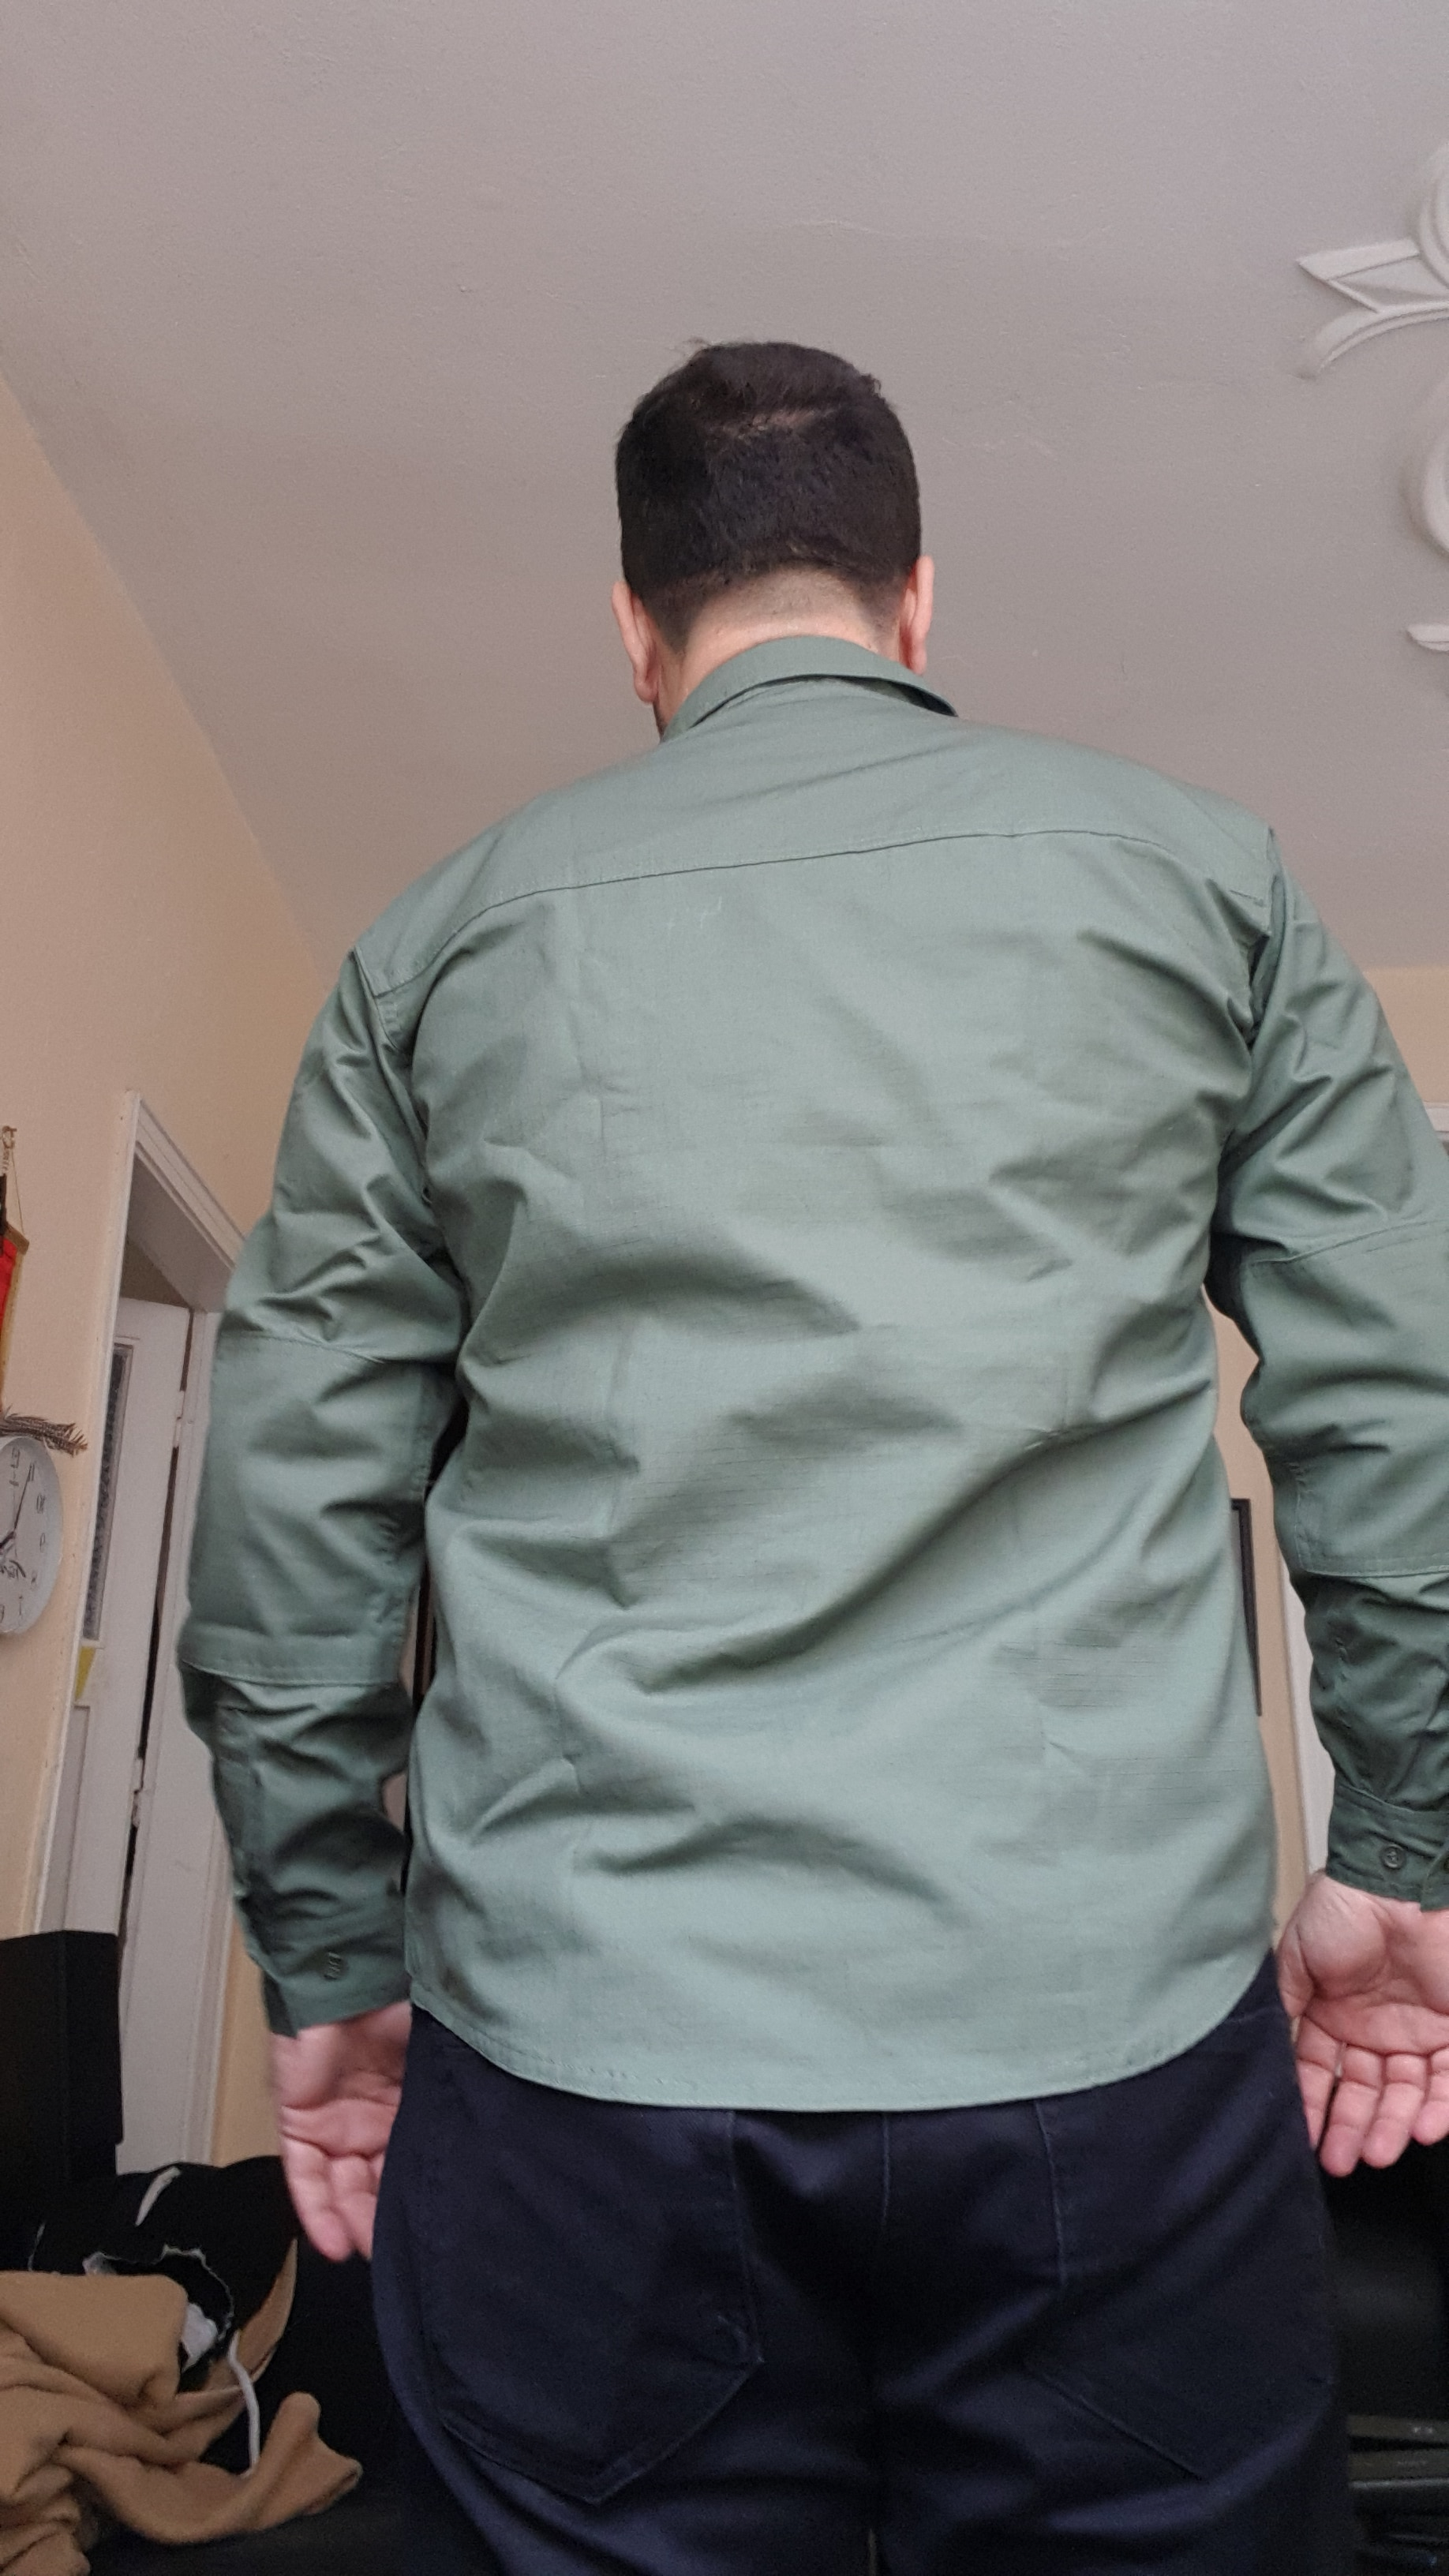shirts: (375, 706, 1424, 2070)
